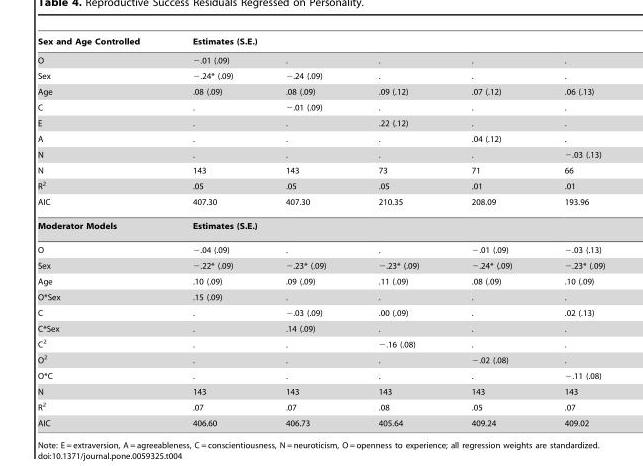table: (36, 36, 604, 427)
table column: (36, 36, 165, 427), (165, 36, 258, 427), (258, 36, 351, 427), (351, 36, 444, 427), (444, 36, 537, 427), (537, 36, 604, 427)
table column header: (36, 36, 604, 67)
table row: (36, 213, 604, 237), (36, 193, 604, 213), (36, 237, 604, 257), (36, 50, 604, 67), (36, 398, 604, 415), (36, 67, 604, 83), (36, 83, 604, 99), (36, 99, 604, 115), (36, 130, 604, 146), (36, 146, 604, 162), (36, 177, 604, 193), (36, 257, 604, 273), (36, 273, 604, 289), (36, 304, 604, 320), (36, 335, 604, 351), (36, 351, 604, 367), (36, 367, 604, 383), (36, 115, 604, 130), (36, 162, 604, 177), (36, 289, 604, 304), (36, 320, 604, 335), (36, 383, 604, 398), (36, 36, 604, 50), (36, 415, 604, 427)
table spanning cell: (165, 213, 604, 237), (165, 36, 604, 50), (36, 36, 165, 67)
